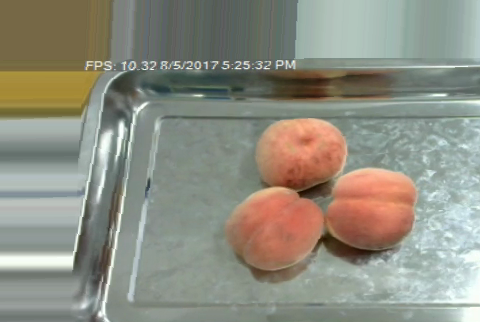Peach: (225, 185, 324, 270), (326, 165, 417, 249), (256, 116, 346, 189)
